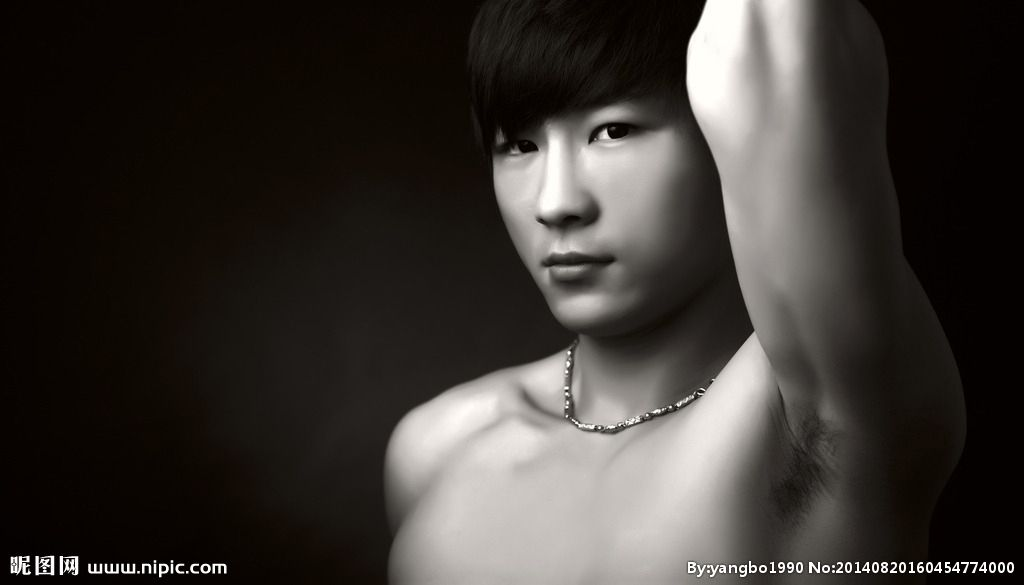person: (369, 14, 807, 508)
